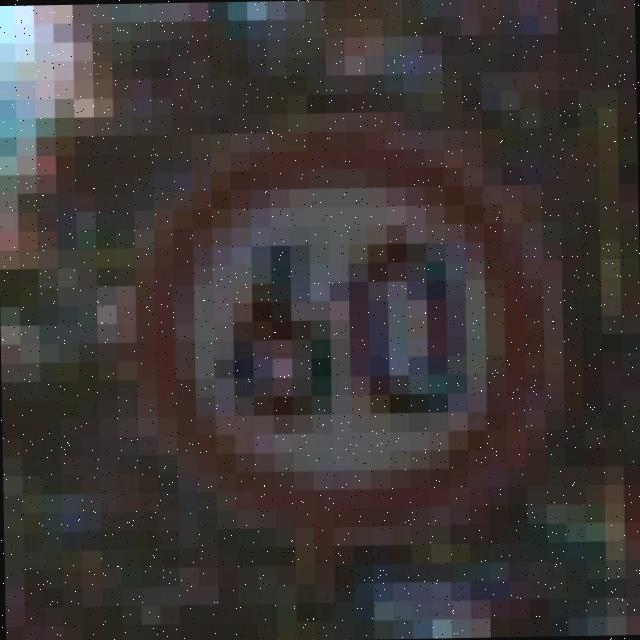Ograniczenie predkosci do 60: (142, 130, 546, 534)
